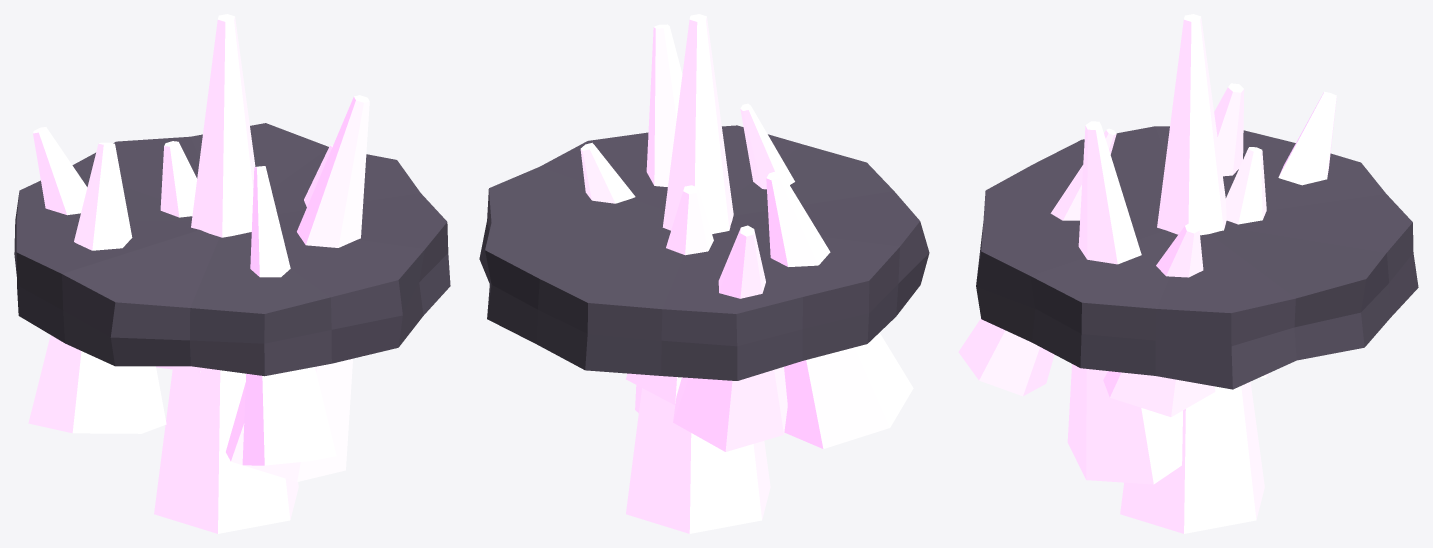
File: crystal_1.glb
3 views of the same model, side by side, from view 1: azimuth 30°, elevation 25°; view 2: azimuth 150°, elevation 25°; view 3: azimuth 270°, elevation 25° (orthographic).
Visible parts, largest first — view 1: Cylinder; view 2: Cylinder; view 3: Cylinder.
Part boxes in pixels (bbox=[...]): Cylinder: bbox=[14, 14, 450, 533]; Cylinder: bbox=[479, 14, 929, 533]; Cylinder: bbox=[958, 14, 1418, 533].
Bounding box in the file's own units: 3.16 × 3.7 × 3.2.
